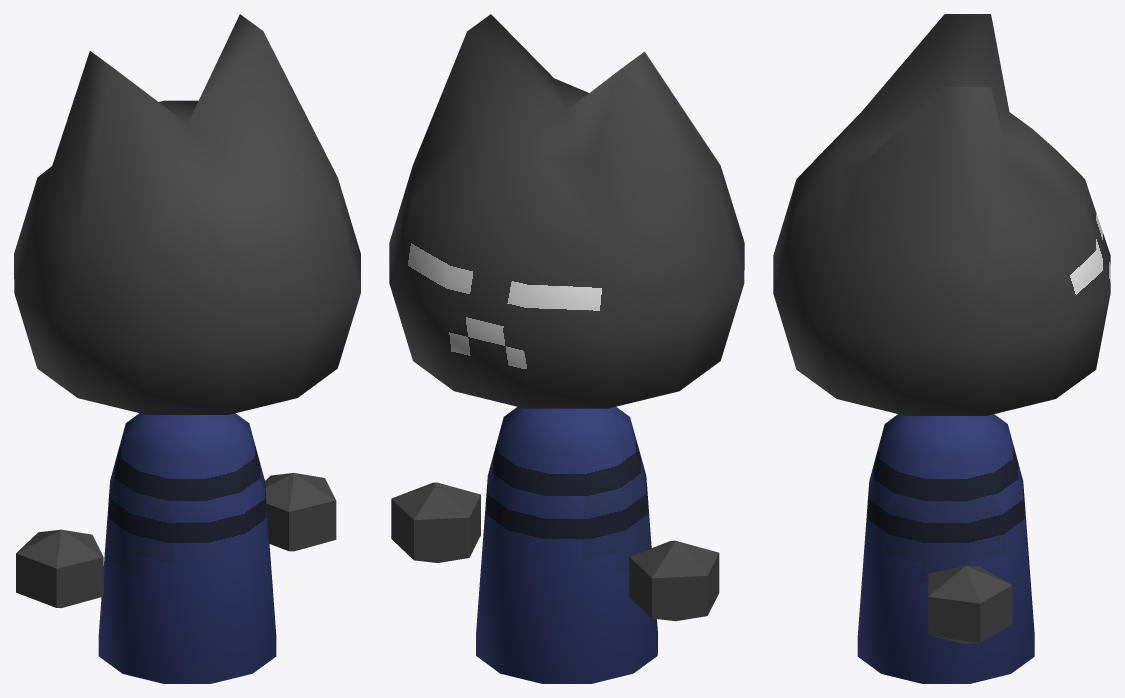
Rendered from guyRagdoll.glb.
The picture shows the model from 3 angles, left to right: view 1: azimuth 30°, elevation 25°; view 2: azimuth 150°, elevation 25°; view 3: azimuth 270°, elevation 25°; orthographic projection. The views are drawn at different scales.
Visible parts, largest first — view 1: head, cylinder, LeftHand, RightHand; view 2: head, cylinder, LeftHand, RightHand; view 3: head, cylinder, RightHand.
Boxes of the visible parts, x1=… form: head: x1=14, y1=14, x2=360, y2=414; cylinder: x1=98, y1=413, x2=276, y2=683; LeftHand: x1=16, y1=529, x2=103, y2=608; RightHand: x1=265, y1=473, x2=336, y2=551; head: x1=389, y1=14, x2=744, y2=408; cylinder: x1=476, y1=406, x2=657, y2=683; LeftHand: x1=629, y1=540, x2=719, y2=621; RightHand: x1=391, y1=482, x2=480, y2=562; head: x1=773, y1=14, x2=1110, y2=415; cylinder: x1=857, y1=414, x2=1034, y2=683; RightHand: x1=928, y1=565, x2=1012, y2=643.
Bounding box in the file's own units: 0.7714 × 1.43 × 0.7309.
2 materials, 2 textured.
